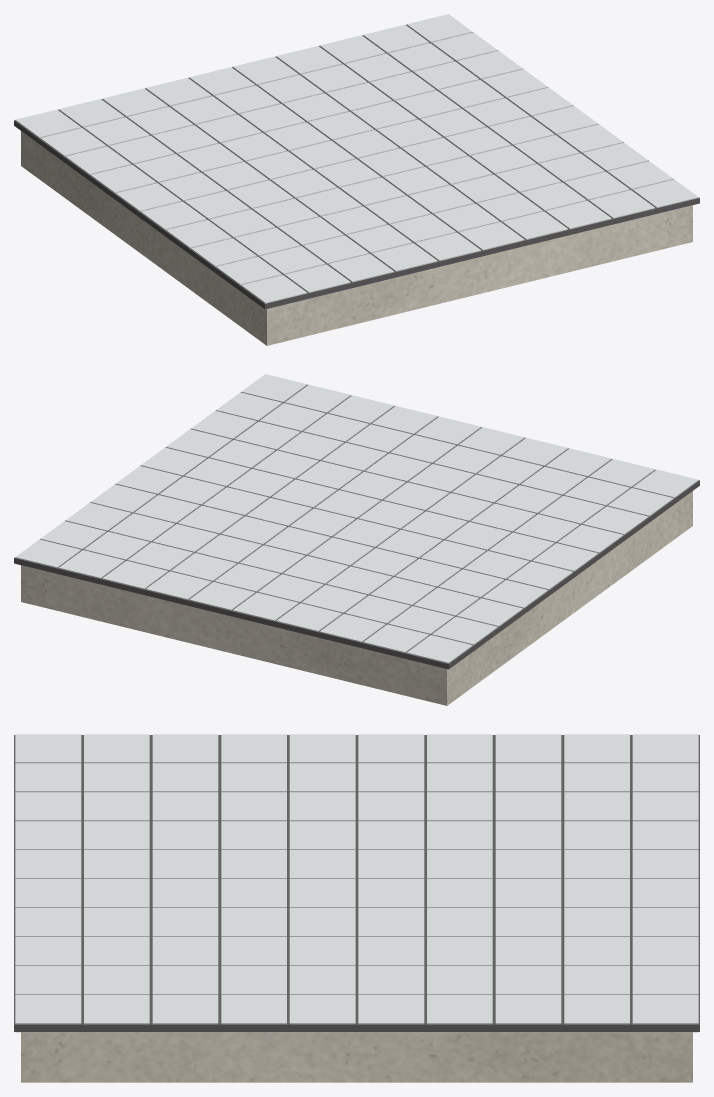
File: floor_tile_bath.glb
The picture shows the model from 3 angles, top to bottom: view 1: azimuth 30°, elevation 25°; view 2: azimuth 150°, elevation 25°; view 3: azimuth 270°, elevation 25°; orthographic projection. The views are drawn at different scales.
Visible parts, largest first — view 1: floor_tile_bath_tile, floor_tile_bath_plaster, floor_tile_bath_dark; view 2: floor_tile_bath_tile, floor_tile_bath_plaster, floor_tile_bath_dark; view 3: floor_tile_bath_tile, floor_tile_bath_plaster, floor_tile_bath_dark.
Boxes of the visible parts, x1,y1,x2,y2 form: floor_tile_bath_tile: [15, 14, 698, 309]; floor_tile_bath_plaster: [21, 131, 692, 345]; floor_tile_bath_dark: [14, 24, 699, 309]; floor_tile_bath_tile: [15, 374, 698, 669]; floor_tile_bath_plaster: [21, 491, 692, 705]; floor_tile_bath_dark: [14, 384, 699, 669]; floor_tile_bath_tile: [15, 734, 698, 1032]; floor_tile_bath_plaster: [21, 1032, 692, 1082]; floor_tile_bath_dark: [14, 735, 699, 1031].
Bounding box in the file's own units: 2 × 0.2 × 2.
Materials: 3 (1 with a texture image).
